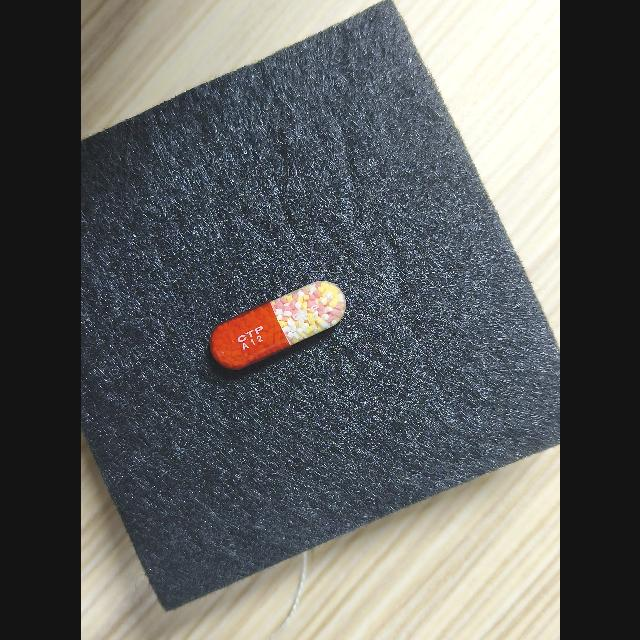Intact Capsule: (209, 281, 346, 370)
